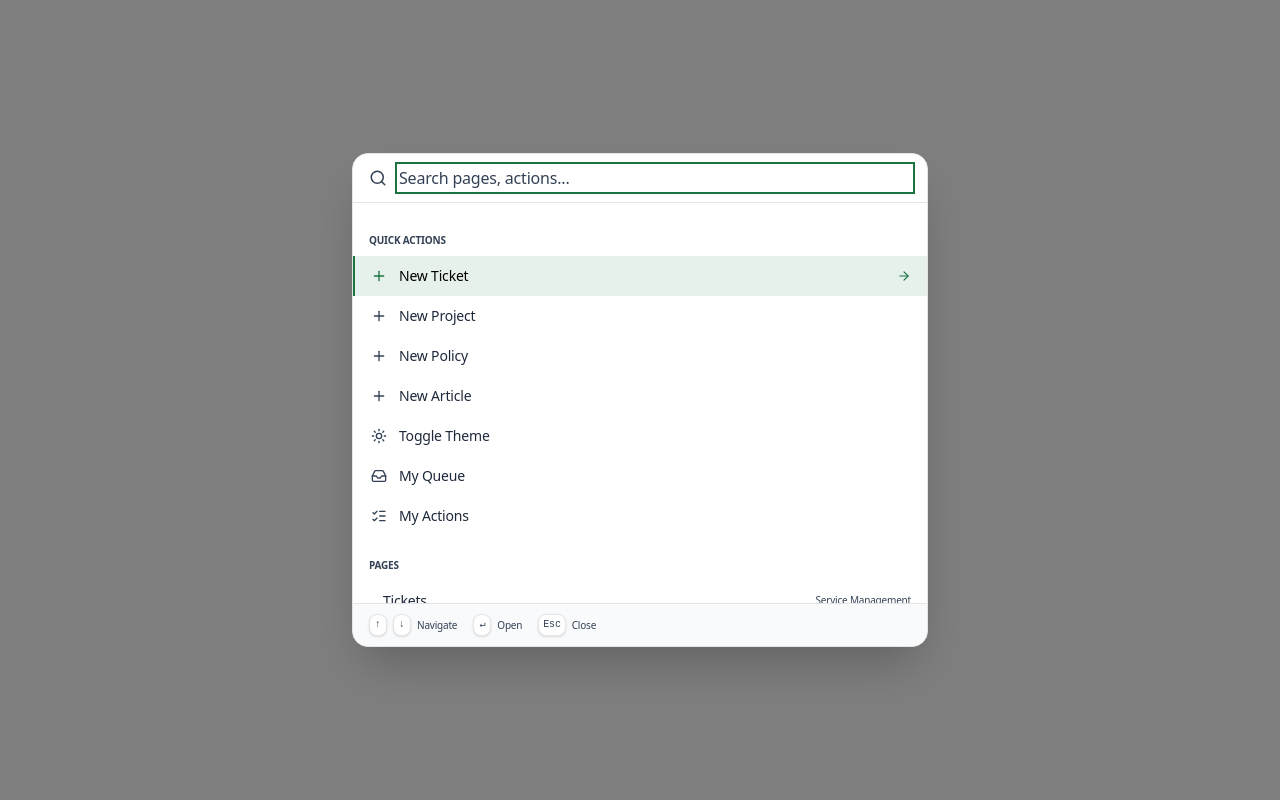
it: CommandPalette › shows no results message for non-matching query
The image size is (1280, 800).
In the field with placeholder "Search pages, actions...": (655, 178) [399,166,911,190], type "zzzznonexistent"
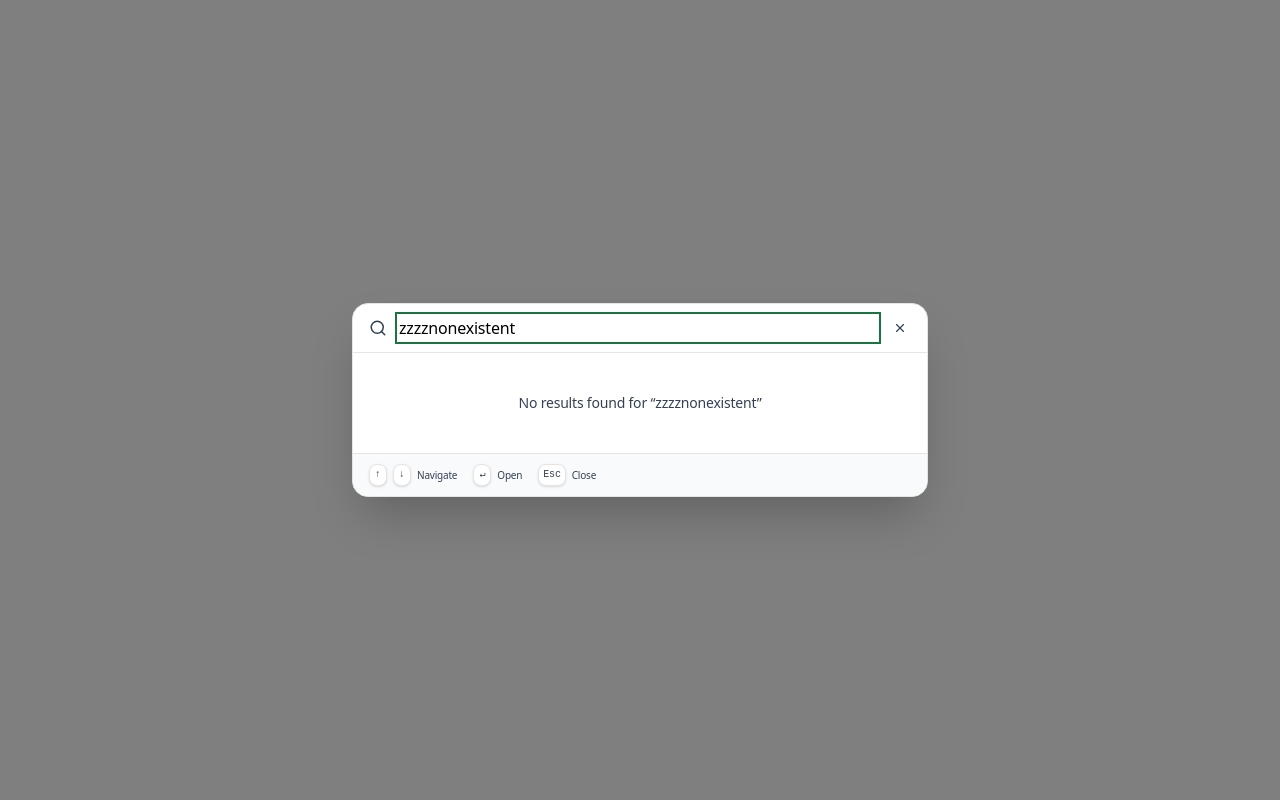
Check: the text "No results found for “zzzznonexistent”" is shown, box [518,393,762,412]
